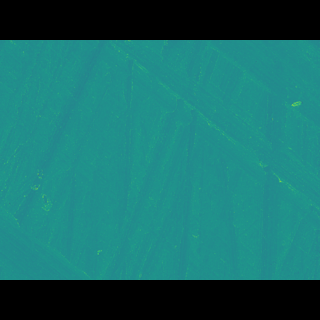Loch: (75, 70, 320, 211), (0, 196, 94, 250)
